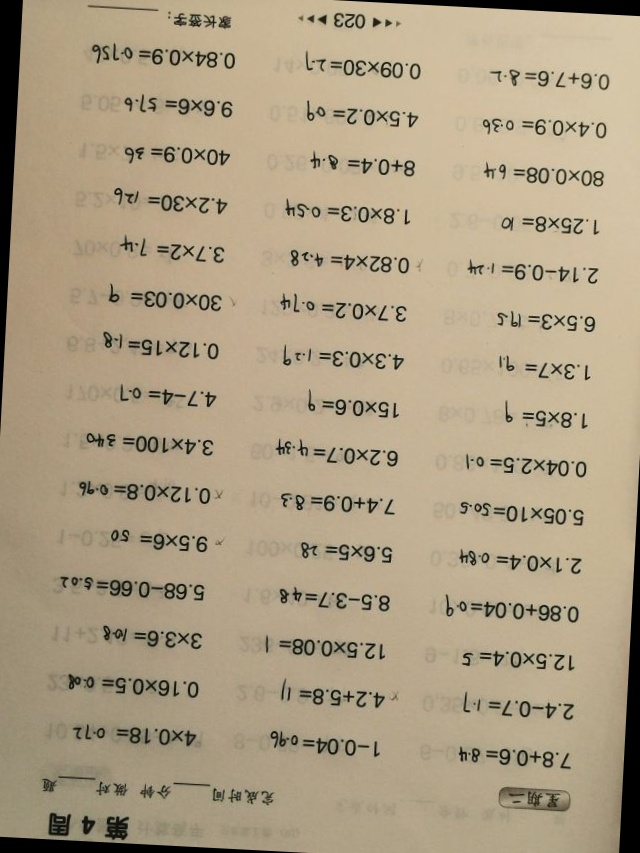equation: (86, 39, 243, 70), (440, 593, 582, 624), (452, 745, 578, 778), (55, 576, 208, 603), (75, 480, 225, 507), (276, 295, 410, 325), (260, 634, 389, 665), (105, 286, 239, 314), (278, 344, 407, 373), (281, 200, 414, 228), (98, 333, 222, 363), (299, 54, 425, 83), (82, 432, 217, 459), (272, 440, 402, 468), (64, 674, 203, 700), (478, 115, 610, 142), (464, 260, 601, 286), (68, 723, 200, 749), (286, 249, 413, 276), (457, 502, 588, 528), (455, 550, 585, 576), (302, 102, 422, 130), (461, 454, 590, 480), (275, 680, 390, 709), (459, 694, 577, 722), (480, 163, 607, 189), (109, 190, 231, 217), (276, 587, 394, 614), (265, 732, 383, 759), (486, 67, 613, 92), (116, 237, 228, 265), (457, 647, 577, 673), (107, 529, 225, 555), (121, 142, 234, 169), (302, 392, 403, 422), (276, 491, 397, 516), (120, 94, 236, 120), (306, 152, 419, 178), (99, 626, 205, 653), (499, 404, 592, 434), (116, 384, 220, 410), (492, 309, 598, 334), (493, 357, 594, 383), (496, 213, 601, 238), (295, 540, 394, 565)
